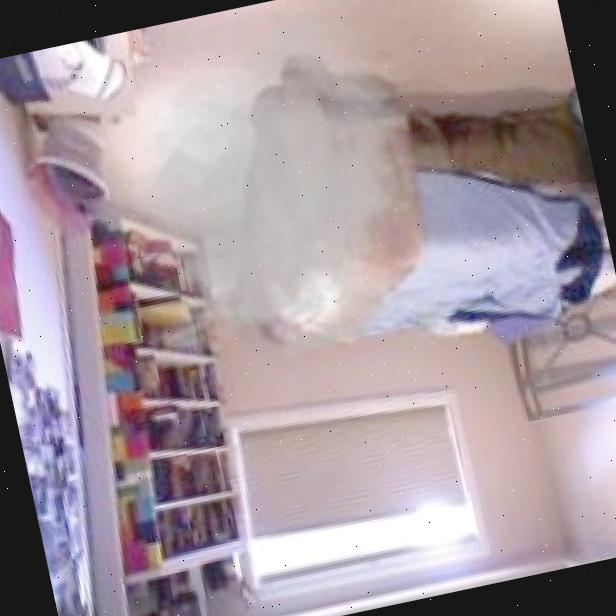smoke: (43, 0, 515, 419)
